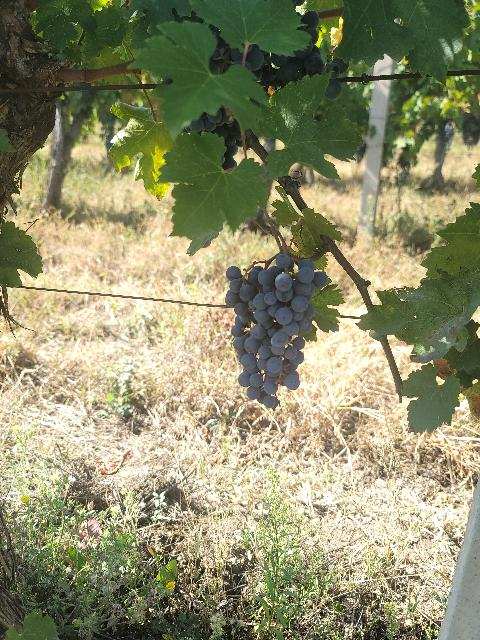grapes: (225, 266, 299, 409), (258, 254, 316, 336)
